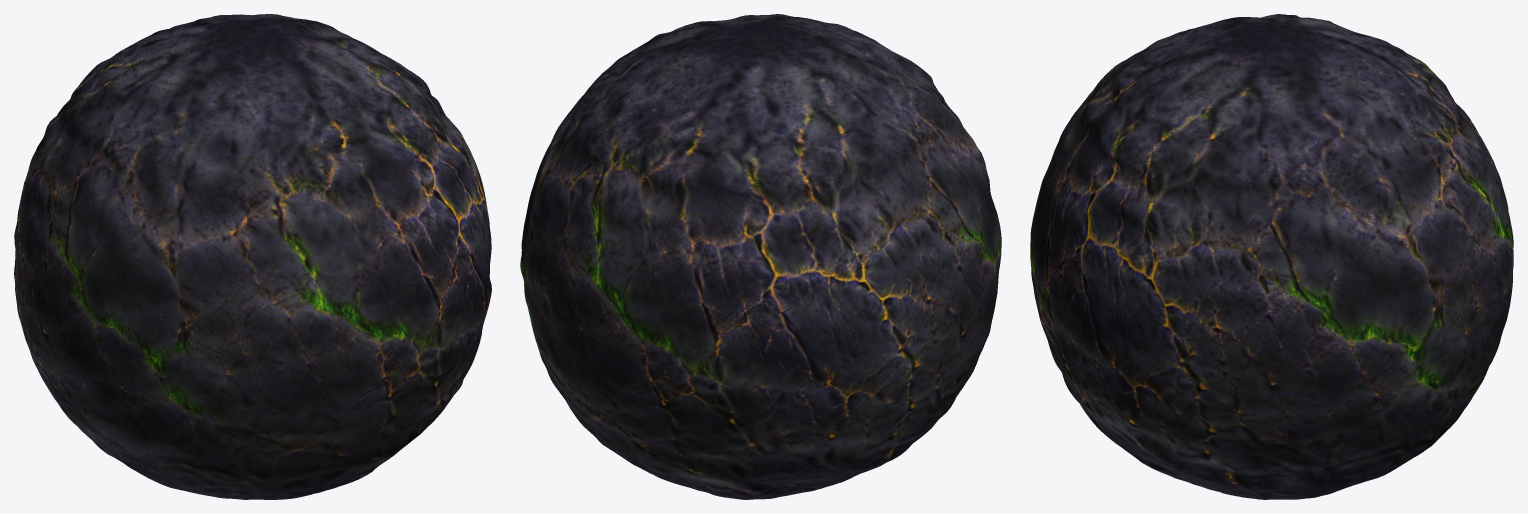
File: fear.glb
3 views of the same model, side by side, from view 1: azimuth 30°, elevation 25°; view 2: azimuth 150°, elevation 25°; view 3: azimuth 270°, elevation 25° (orthographic).
Visible parts, largest first — view 1: geometry_0; view 2: geometry_0; view 3: geometry_0.
Part boxes in pixels (box(x1,y1,x2,y2)): geometry_0: box(14, 14, 491, 499); geometry_0: box(520, 14, 1001, 499); geometry_0: box(1030, 14, 1513, 499).
Size of the model in its own units: 0.5796 by 0.5899 by 0.5827.
1 material, 1 textured.
